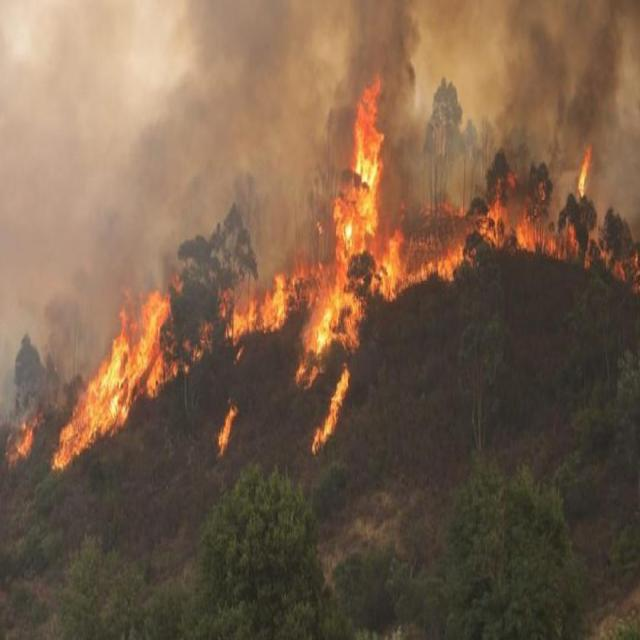Fire: (49, 80, 634, 466), (312, 372, 351, 452), (5, 415, 36, 461), (217, 405, 238, 457), (576, 144, 596, 198)
